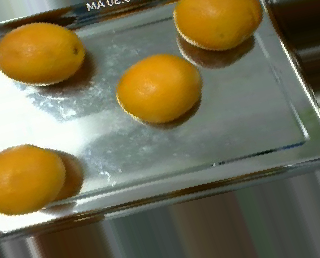Orange: (115, 53, 202, 123), (1, 22, 87, 85), (1, 143, 68, 216), (172, 1, 264, 50)
